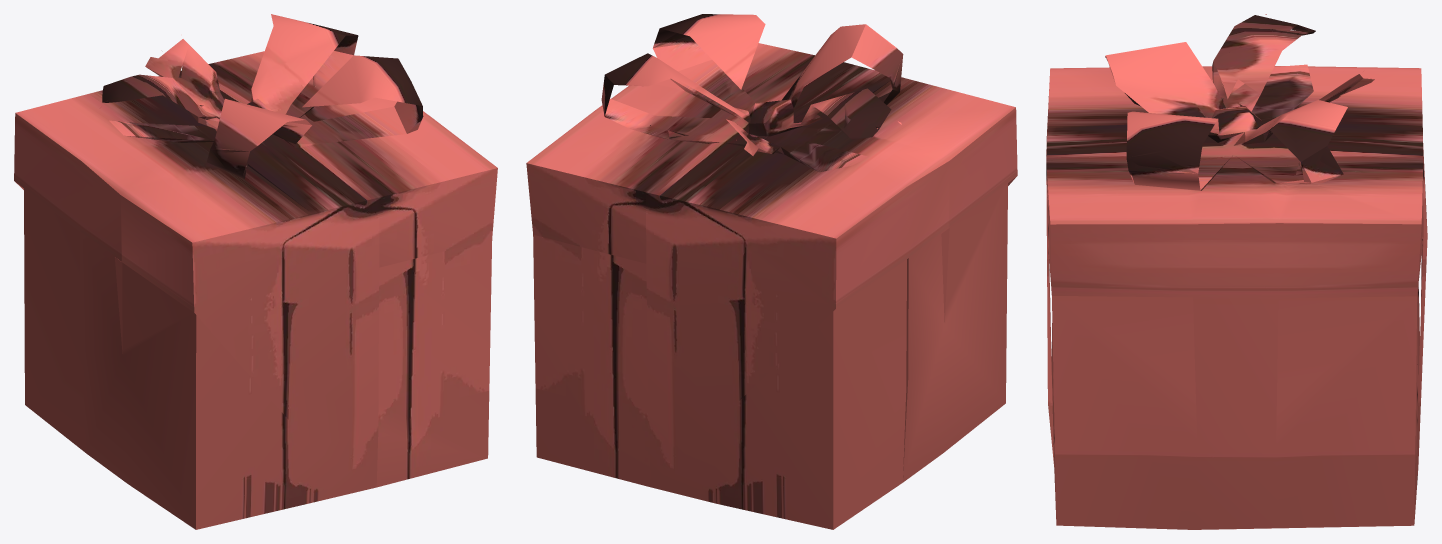
3 renders of one model, left to right at view 1: azimuth 30°, elevation 25°; view 2: azimuth 150°, elevation 25°; view 3: azimuth 270°, elevation 25°, orthographic. The views are drawn at different scales.
Visible parts, largest first — view 1: Decor_gift_box_display_a; view 2: Decor_gift_box_display_a; view 3: Decor_gift_box_display_a.
Boxes of the visible parts, bbox=[...] form: Decor_gift_box_display_a: bbox=[14, 14, 497, 529]; Decor_gift_box_display_a: bbox=[526, 14, 1017, 529]; Decor_gift_box_display_a: bbox=[1046, 14, 1427, 529].
Bounding box in the file's own units: 1.06 × 1.2 × 1.08.
Materials: 1 (1 with a texture image).
